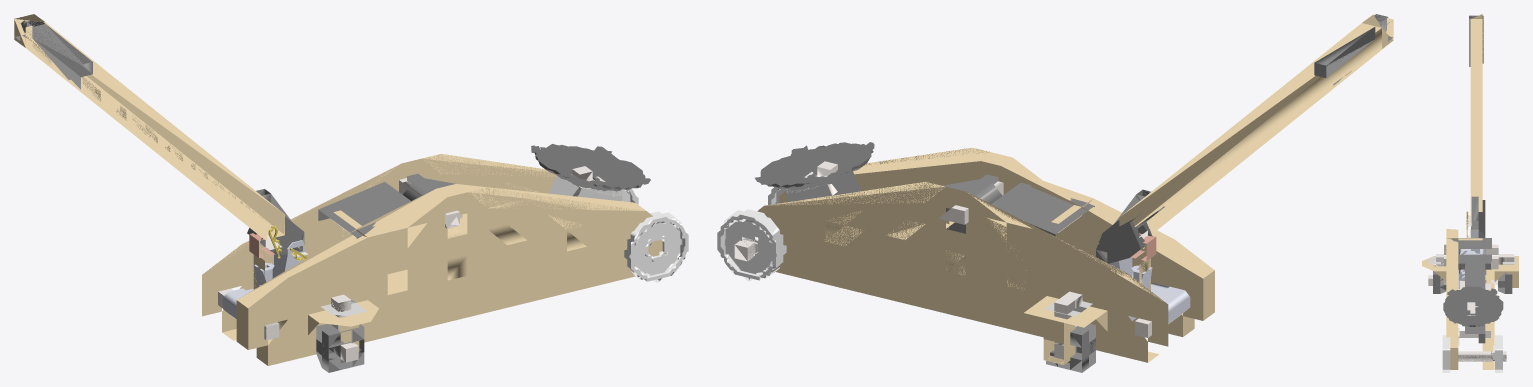
Rendered from GLTF_Model.glb.
3 renders of one model, left to right at view 1: azimuth 30°, elevation 25°; view 2: azimuth 150°, elevation 25°; view 3: azimuth 270°, elevation 25°, orthographic. The views are drawn at different scales.
Parts seen in each view (by area): view 1: Empty; view 2: Empty; view 3: Empty.
Part boxes in pixels (x1,y1,x2,y2): Empty: (14,14,688,372); Empty: (717,14,1393,372); Empty: (1422,14,1518,372).
Bounding box in the file's own units: 0.7005 × 0.4015 × 0.1741.
